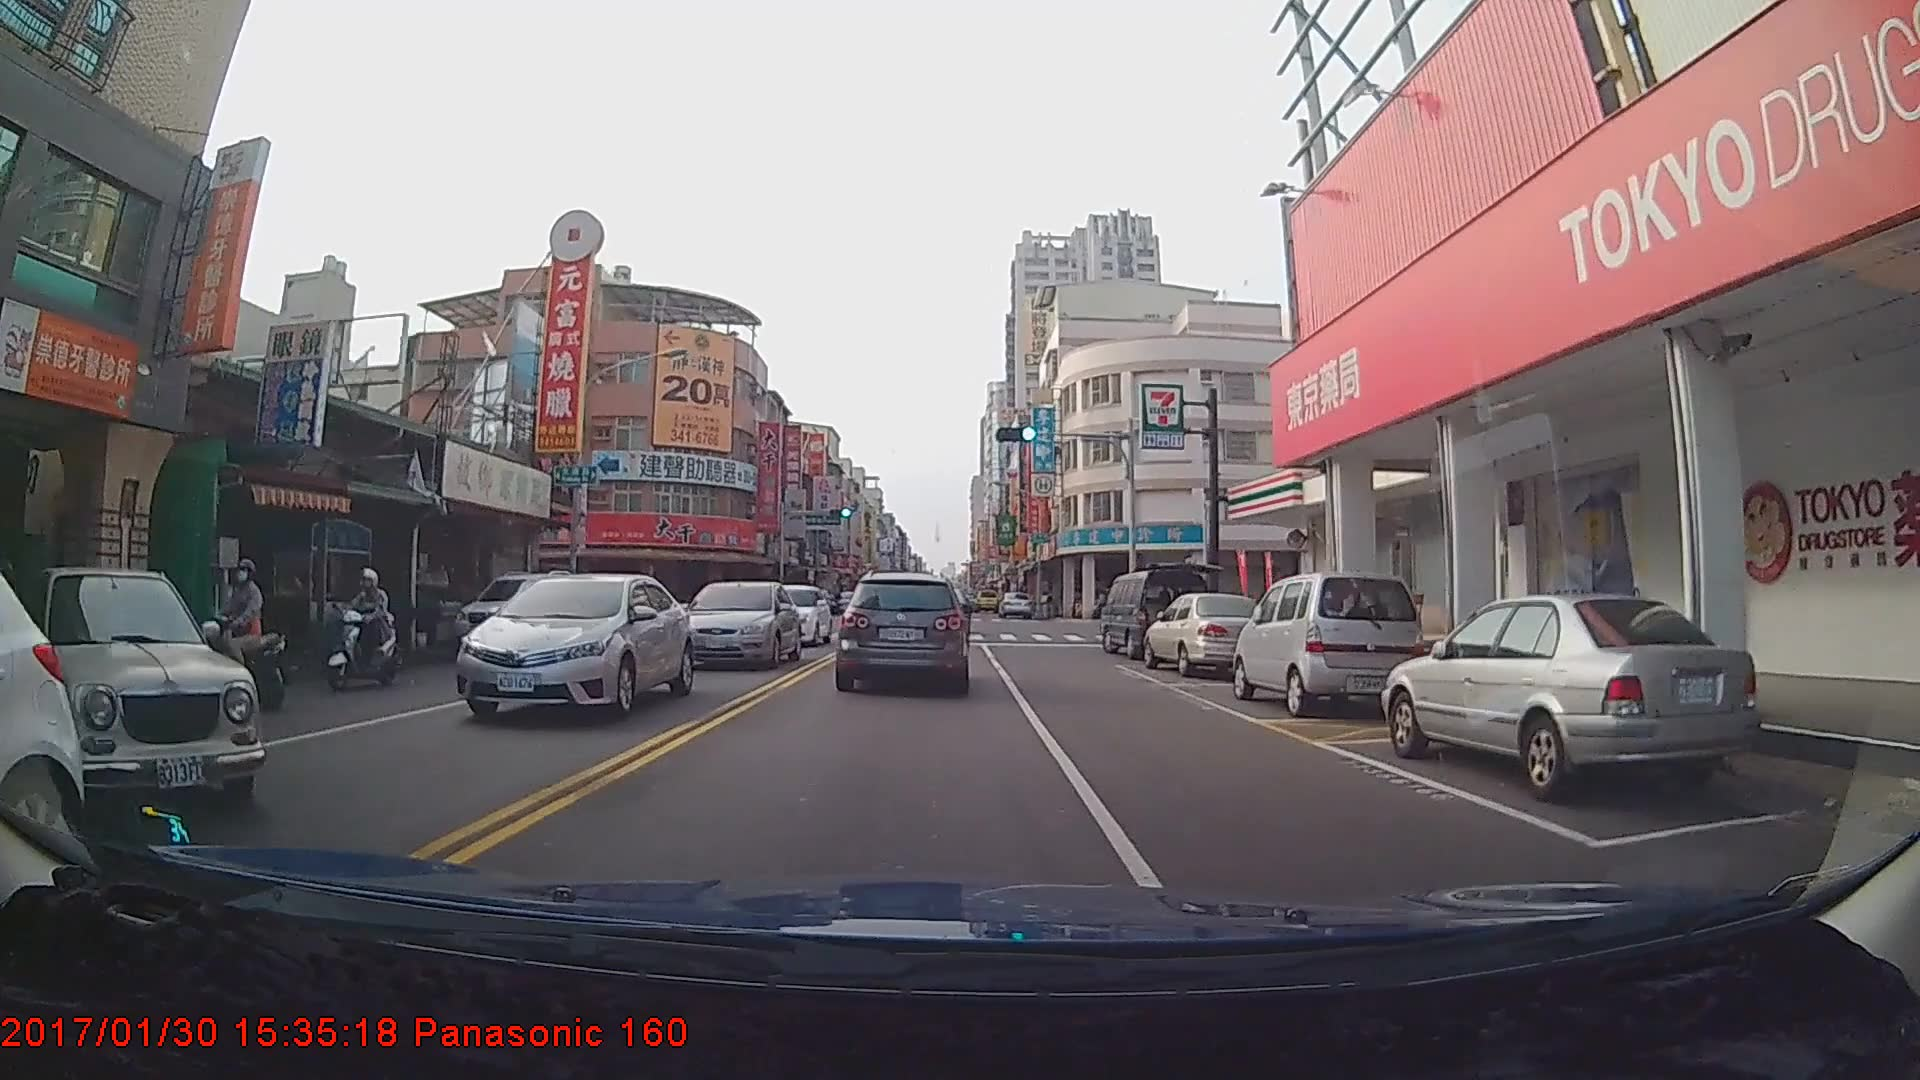rider: (186, 557, 292, 710), (319, 568, 411, 690)
vehicle: (1383, 590, 1758, 800), (0, 565, 265, 809), (453, 572, 688, 726), (1235, 571, 1420, 716), (838, 572, 968, 691), (454, 569, 581, 659), (678, 581, 801, 671), (1144, 592, 1272, 678), (1100, 574, 1212, 657), (754, 586, 833, 646), (994, 591, 1032, 618)
